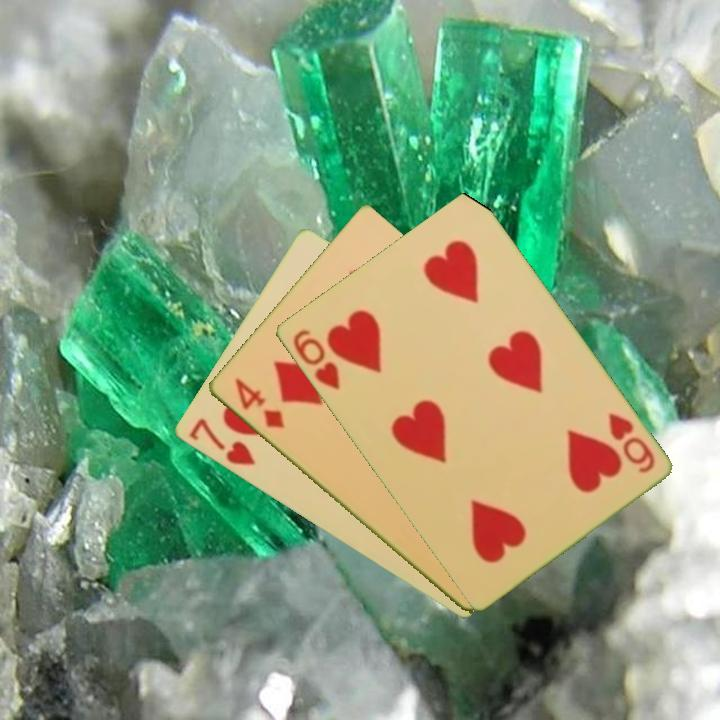4d: (230, 374, 287, 432)
6h: (288, 325, 343, 393), (604, 409, 658, 476)
7h: (185, 415, 258, 469)
